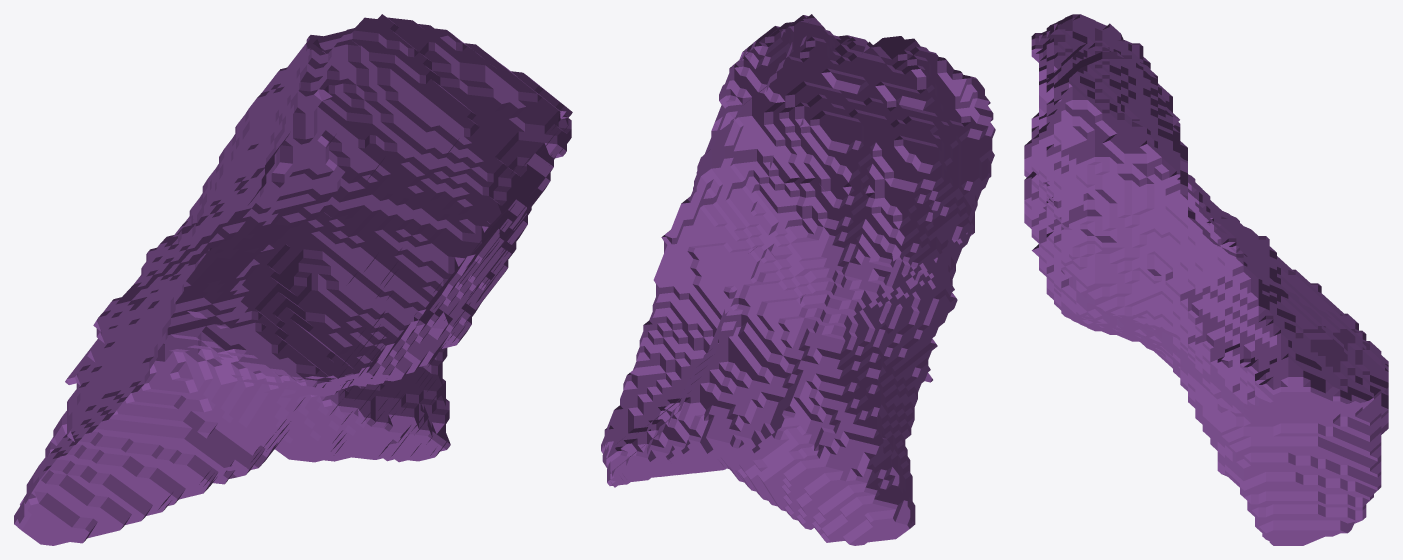
Rendered from region_0146_TL__longitudinal_torus_.glb.
3 renders of one model, left to right at view 1: azimuth 30°, elevation 25°; view 2: azimuth 150°, elevation 25°; view 3: azimuth 270°, elevation 25°, orthographic. The views are drawn at different scales.
Parts seen in each view (by area): view 1: world; view 2: world; view 3: world.
Boxes of the visible parts, x1,y1,x2,y2 form: world: (14, 14, 572, 545); world: (601, 14, 995, 545); world: (1024, 14, 1388, 545).
Size of the model in its own units: 0.416 by 0.512 by 0.392.
